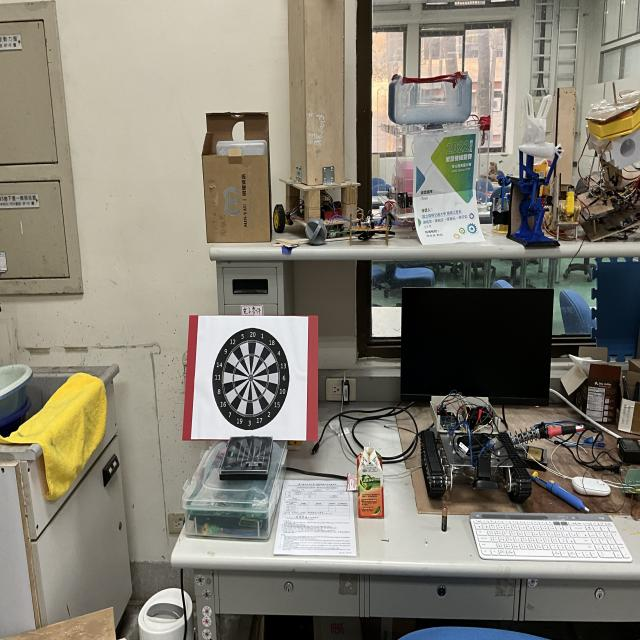archery-targets: (211, 326, 291, 432)
